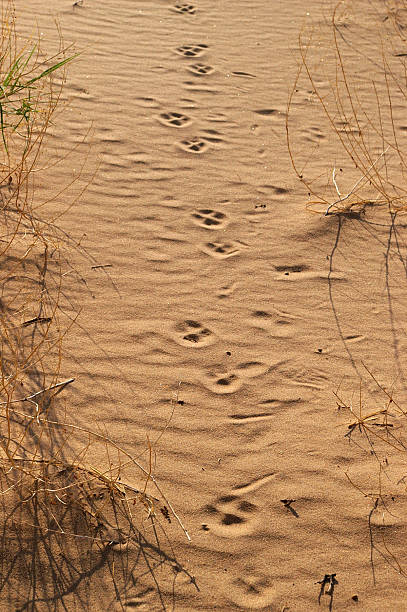animal_footprint: (202, 494, 258, 537), (225, 567, 277, 609), (174, 319, 214, 347), (203, 371, 243, 394), (192, 209, 228, 229), (200, 241, 242, 258), (177, 137, 209, 153), (236, 361, 268, 377), (157, 112, 191, 127), (175, 43, 207, 57), (187, 63, 214, 75), (171, 2, 195, 13)
